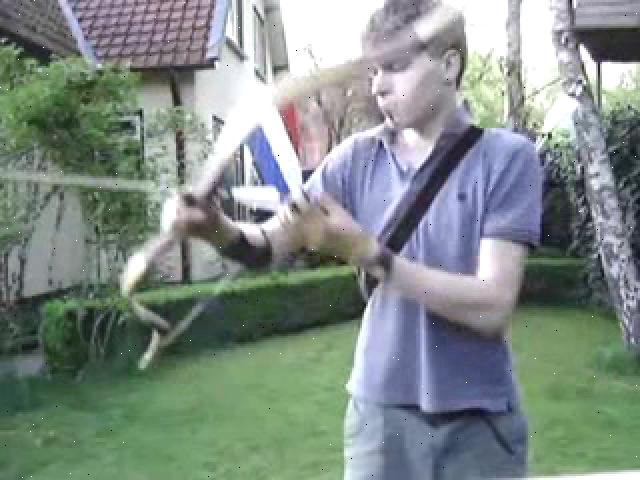P: (166, 5, 540, 474)
